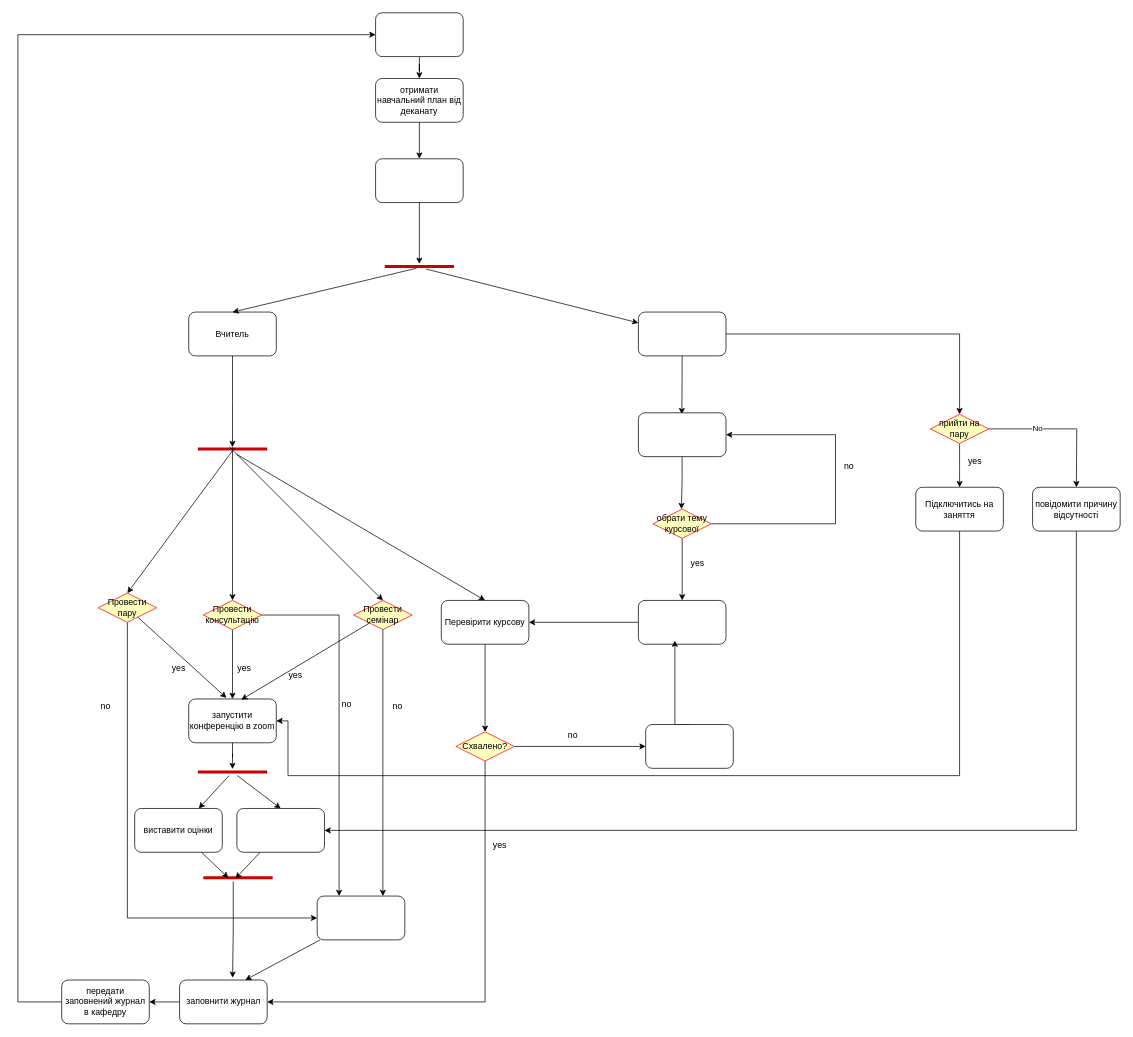
The diagram is 1133 pixels wide and 1037 high, and some of its shapes have lost their labels. The centre of each missing label's shape, as x and y in pixels:
відмітити відсутніх: [280,830]
відіслати навчальний план: [419,180]
здати курсову вчителю: [682,622]
кафедра: [419,34]
Обрати курсову: [682,434]
Повернути роботу студенту: [689,746]
Повідомити причину: [360,917]
Студент: [682,333]
